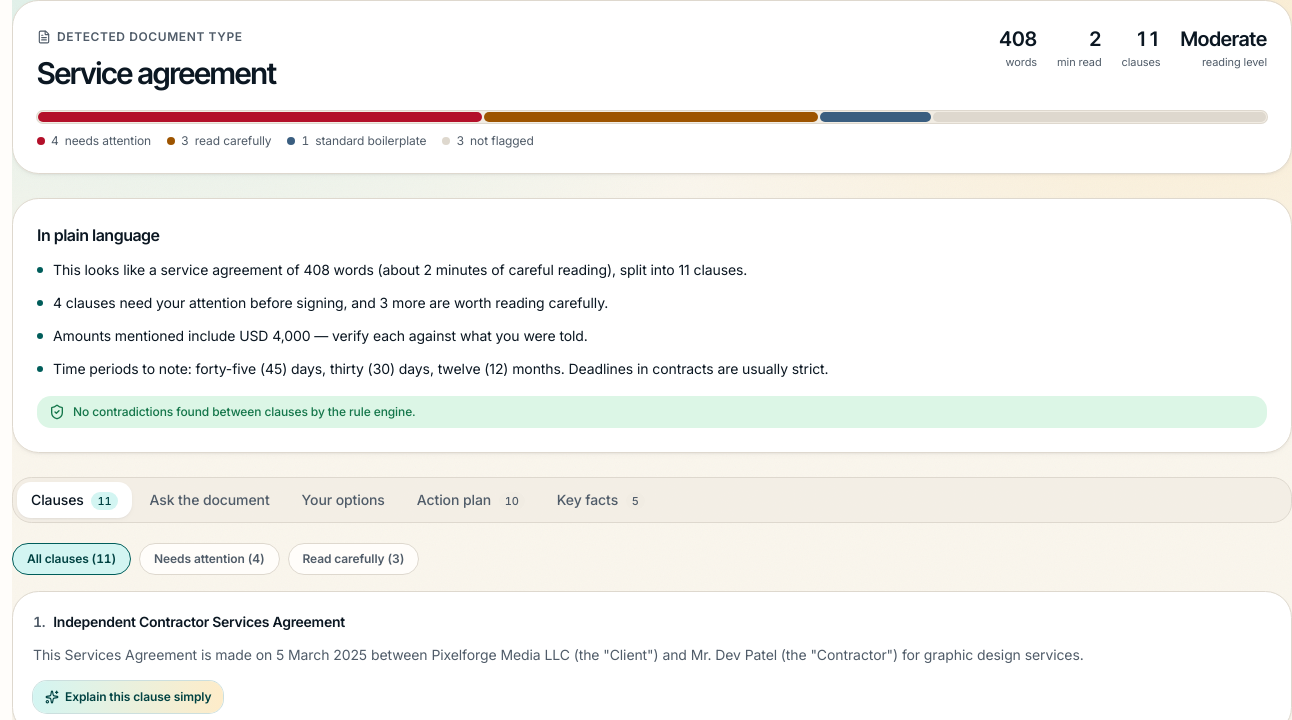
AnalysisView › shows what the other side must do alongside the reader's own duties
The width and height of the screenshot is (1292, 720).
Click the tab "Key facts 5".
click(601, 500)  # box [543,482,659,518]
(page scrolled)
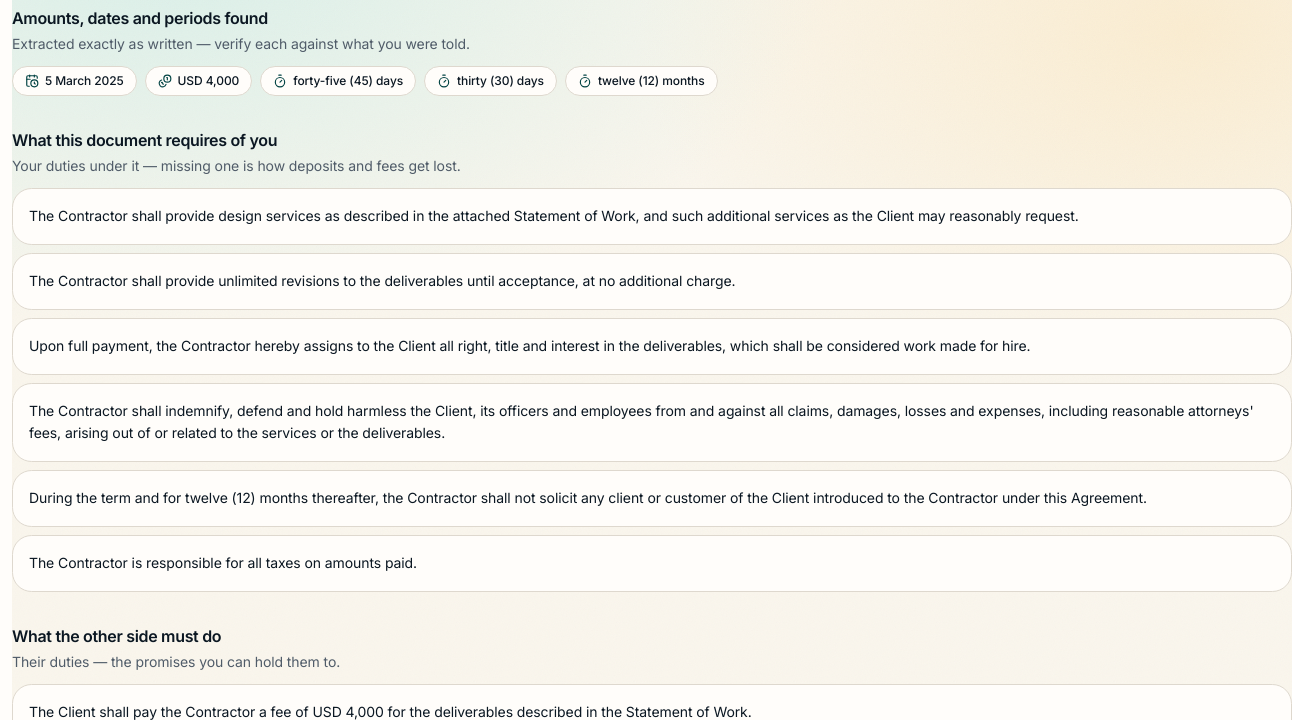
Check: the list item "Client shall pay the Contractor" is shown, box [29,703,752,719]
Check: the element "What this document requires of you" is shown
